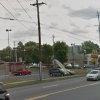Car: (82, 66, 100, 90)
